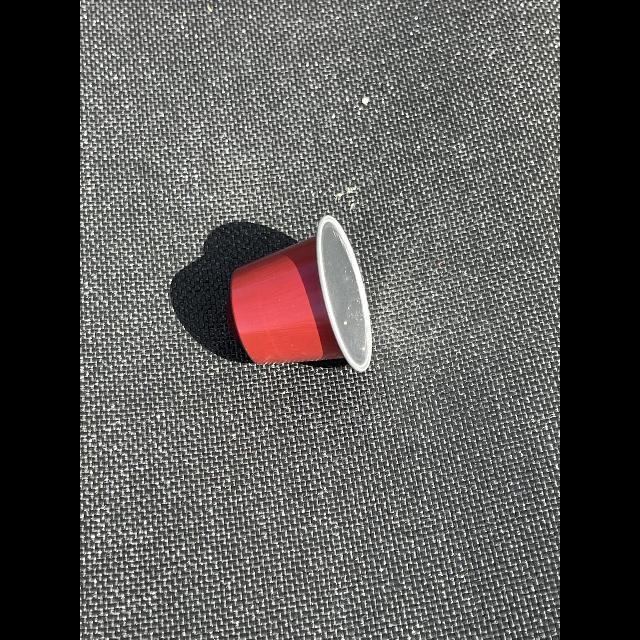intact_capsule: (219, 212, 391, 382)
